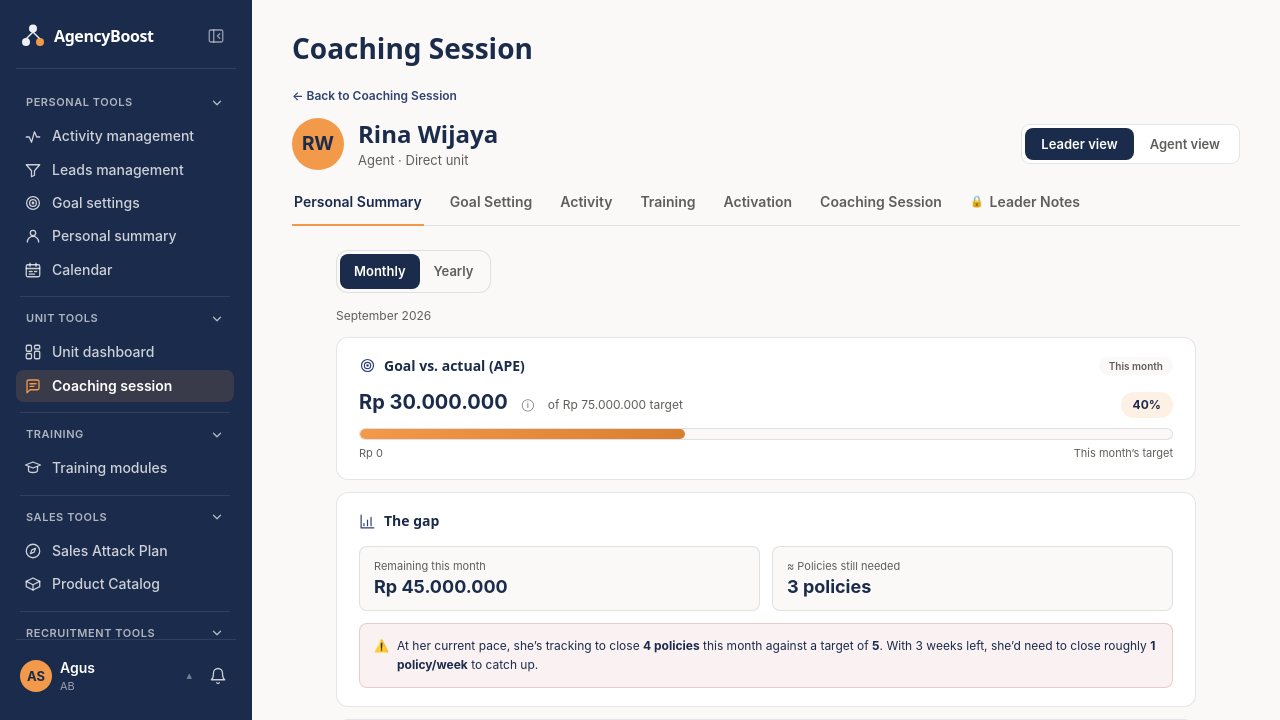
it: a coachee’s Personal Summary tab (P11-T7 AC-4) › P11-T7 AC-4 shows the APE produced read-only, its source in her words
Expected: the text "Rp 30.000.000" is shown, [359,390,508,414]
What coordinates should you click on to do the following:
click the button named "From the production upload, September 2026"
I would click on:
 (528, 404)
Its box is [514,390,542,418].
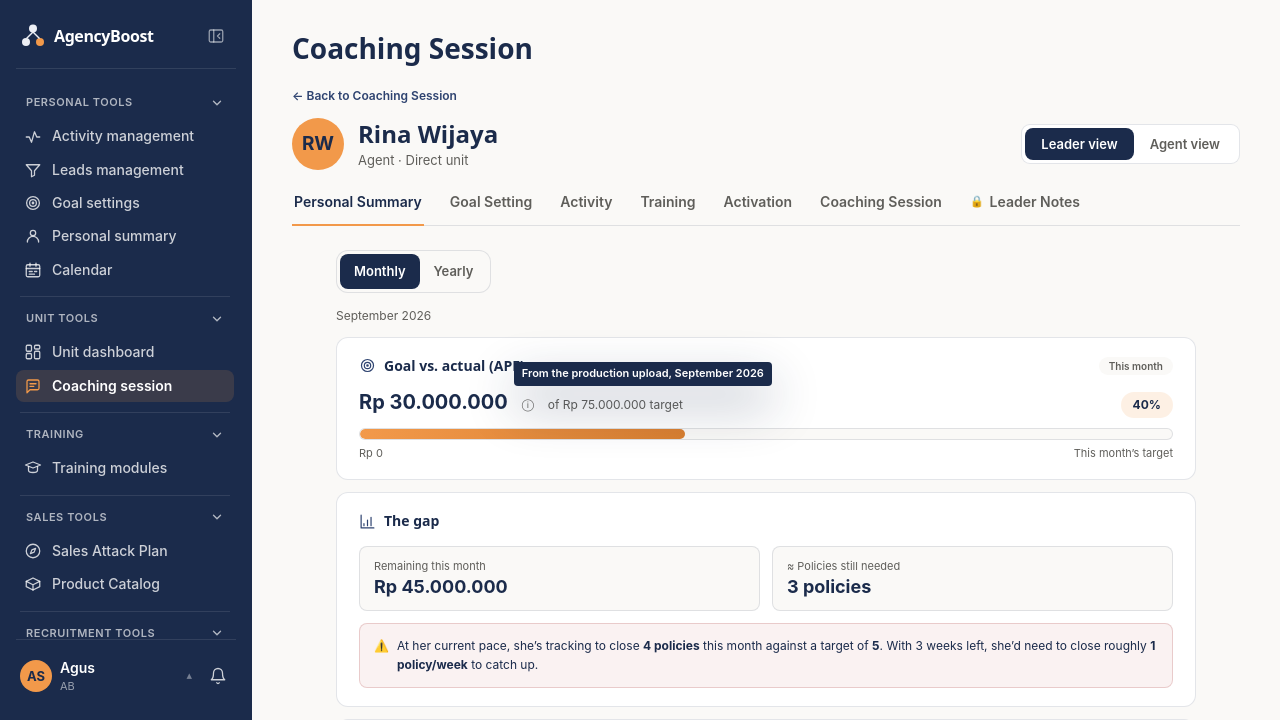
Now the tooltip "From the production upload, September 2026" is shown, box [514,362,772,386]
